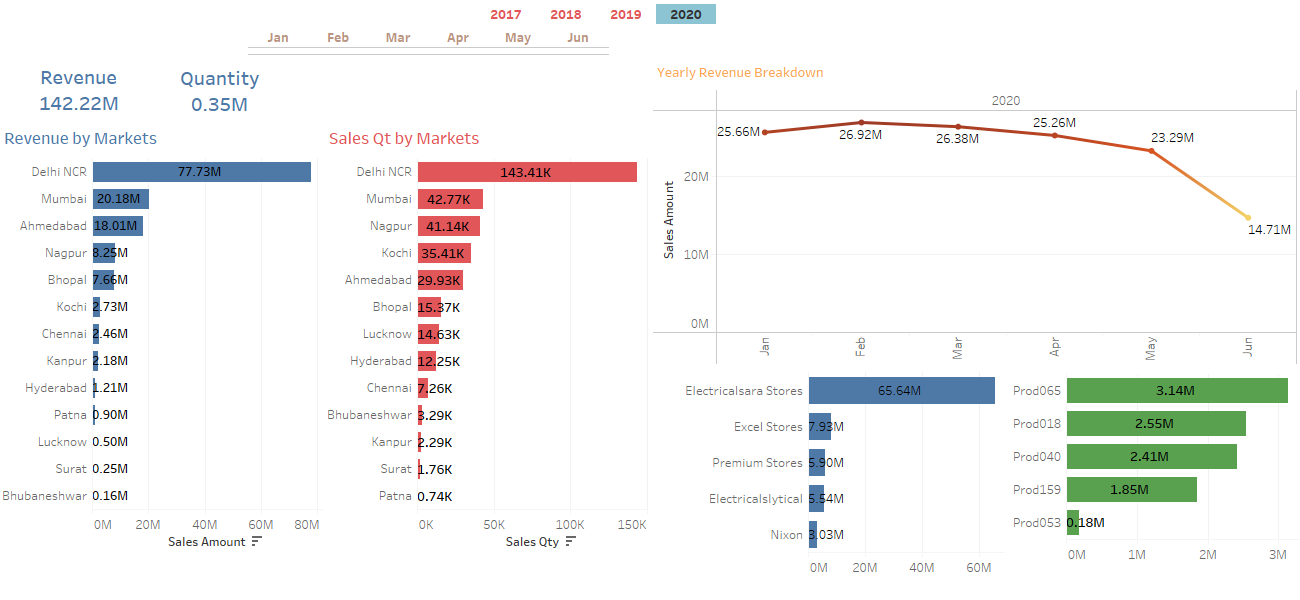

This screenshot's page, from the dashboard's own definition file:
{"tool":"tableau","page":{"name":"Sales Insights","canvas":[1300,600],"ordinal":1},"visuals":[{"type":"worksheet","title":"Year Tab","mark":"Automatic","cols":["cy_date"],"box":[475.8,3.8,314.6,20.2]},{"type":"worksheet","title":"Month Tab","mark":"Automatic","cols":["cy_date"],"box":[248,27,725,31]},{"type":"worksheet","title":"Yearly Revenue Breakdown","mark":"Automatic","rows":["sales_amount"],"cols":["cy_date","cy_date"],"box":[653,57,644,308]},{"type":"worksheet","title":"Revenue","mark":"Automatic","box":[29,64,104,58]},{"type":"worksheet","title":"Sales Quantity","mark":"Automatic","box":[170,65,116,62]},{"type":"worksheet","title":"Revenue by Markets","mark":"Automatic","rows":["markets_name"],"cols":["sales_amount"],"box":[0,121,322,466]},{"type":"worksheet","title":"Sales Qt by Markets","mark":"Automatic","rows":["markets_name"],"cols":["sales_qty"],"box":[325,121,323,468]},{"type":"worksheet","title":"Top Customers","mark":"Automatic","rows":["custmer_name"],"cols":["sales_amount"],"box":[684,372,320,216]},{"type":"worksheet","title":"Top Products","mark":"Automatic","rows":["product_code (products)"],"cols":["sales_amount"],"box":[1010,374,289,214]}]}

Visuals, with their boxes in screenshot pixels (x1, y1, x2, y2), scaled from the page's 1300x600 canvas onto the 1300x600 screenshot:
"Year Tab" worksheet: 476/4/790/24
"Month Tab" worksheet: 248/27/973/58
"Yearly Revenue Breakdown" worksheet: 653/57/1297/365
"Revenue" worksheet: 29/64/133/122
"Sales Quantity" worksheet: 170/65/286/127
"Revenue by Markets" worksheet: 0/121/322/587
"Sales Qt by Markets" worksheet: 325/121/648/589
"Top Customers" worksheet: 684/372/1004/588
"Top Products" worksheet: 1010/374/1299/588
